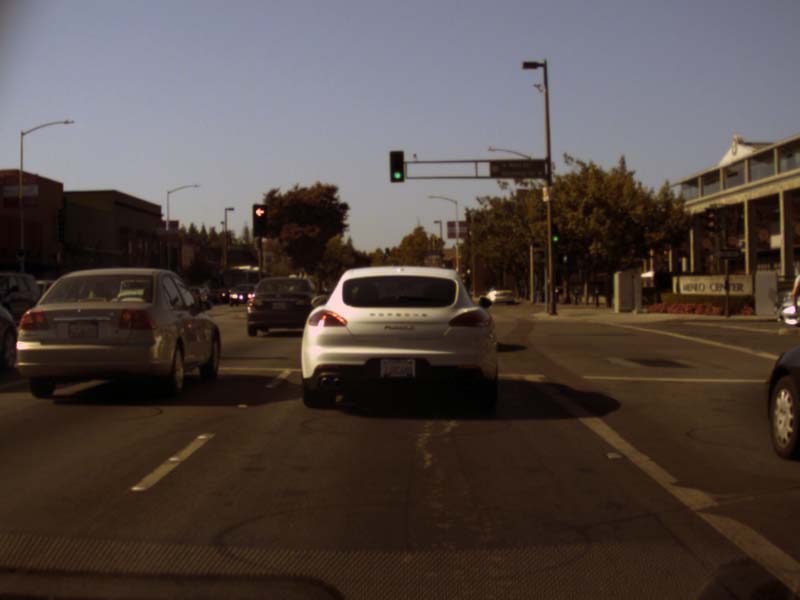Green: (389, 150, 404, 181), (550, 227, 559, 249)
Red: (252, 204, 267, 236)
